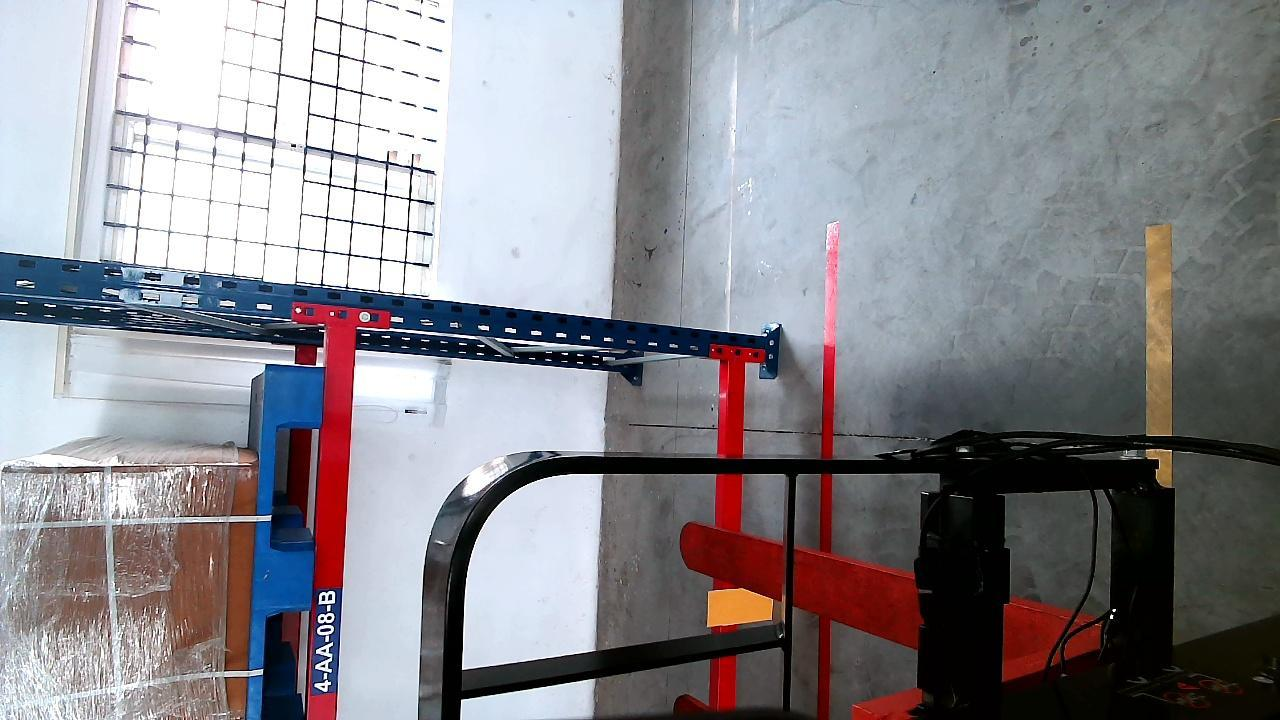red_line: (820, 219, 840, 475)
yellow_line: (1146, 214, 1172, 452)
